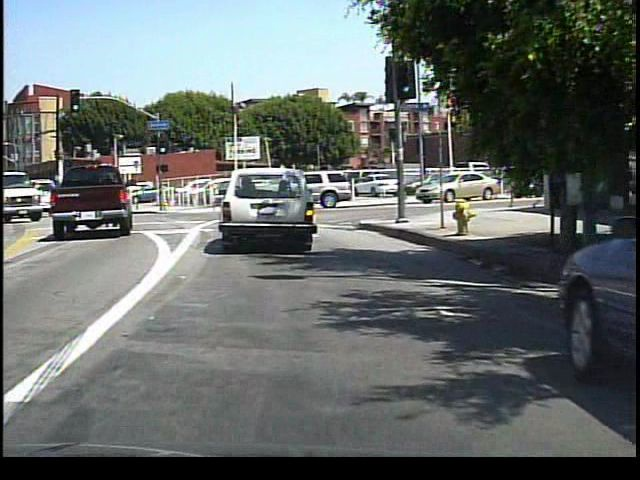person: (395, 164, 413, 203)
